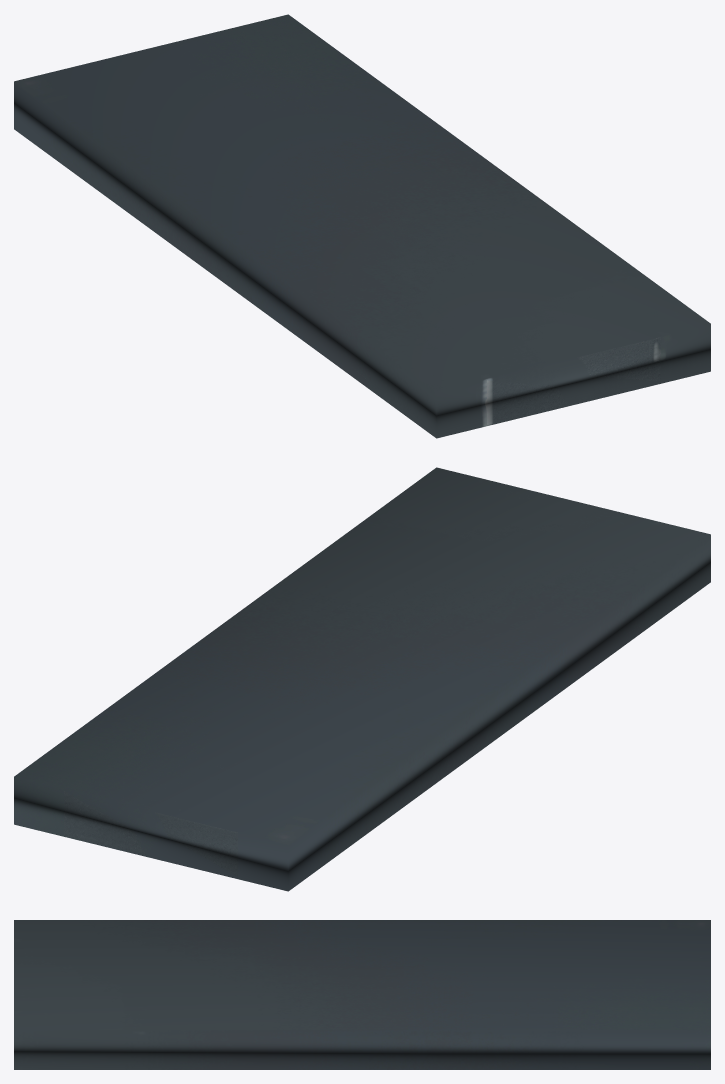
Rendered from SM_VLS.glb.
3 renders of one model, top to bottom at view 1: azimuth 30°, elevation 25°; view 2: azimuth 150°, elevation 25°; view 3: azimuth 270°, elevation 25°, orthographic. The views are drawn at different scales.
Bounding box in the file's own units: 0.75 × 0.125 × 2.
1 material, 1 textured.
